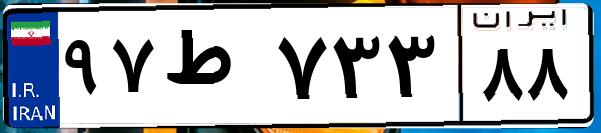3: (385, 28, 445, 110), (330, 28, 385, 110)
7: (270, 28, 330, 110), (110, 28, 158, 98)
8: (475, 38, 525, 113), (525, 38, 570, 115)
9: (57, 26, 110, 100)
ط: (158, 20, 270, 120)
